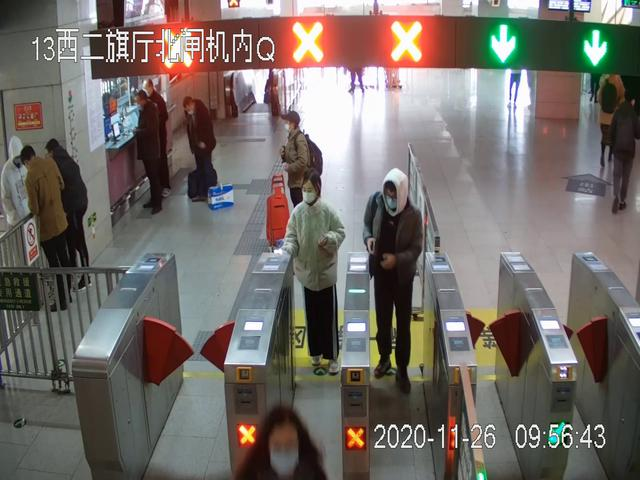person: (282, 170, 347, 376), (364, 168, 422, 395), (18, 143, 75, 309), (45, 137, 91, 291), (280, 110, 324, 227), (132, 88, 167, 213), (2, 135, 36, 261), (608, 88, 640, 215), (183, 97, 217, 206), (599, 70, 624, 167)
